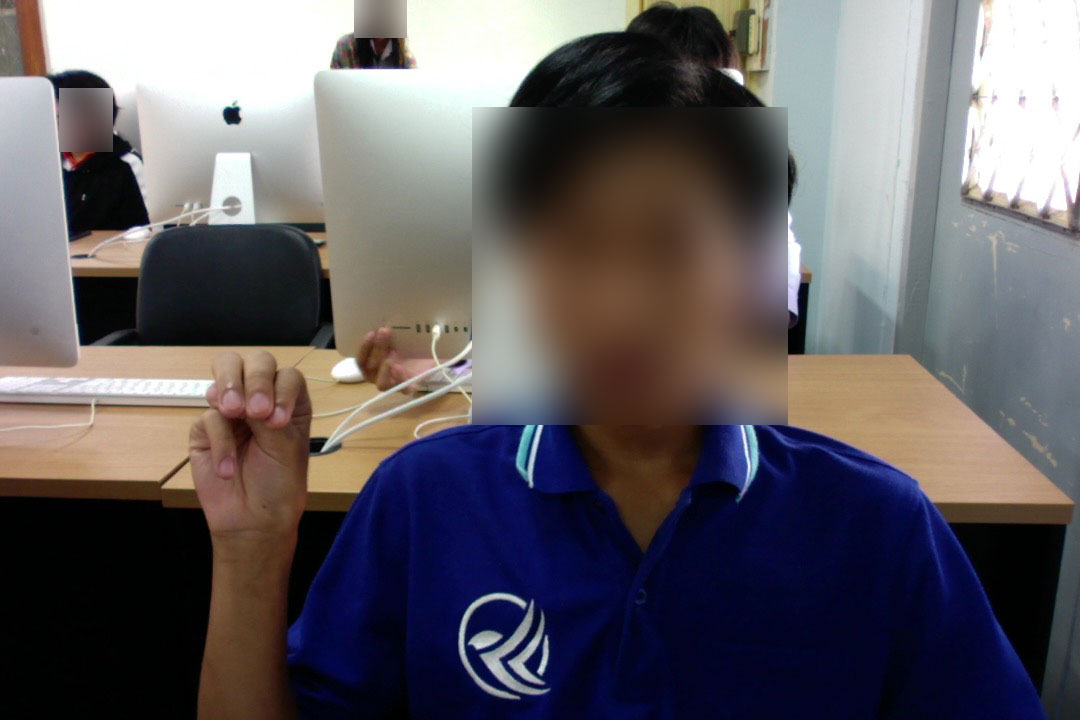mor: (178, 345, 318, 565)
